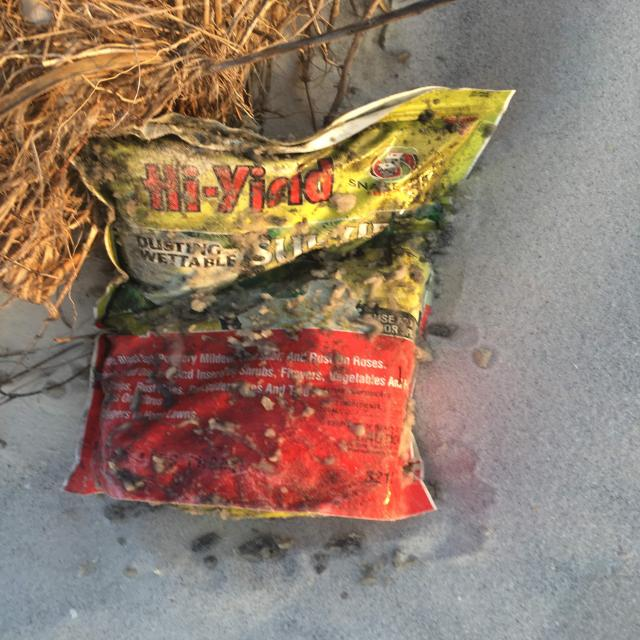litter: (116, 92, 640, 434)
